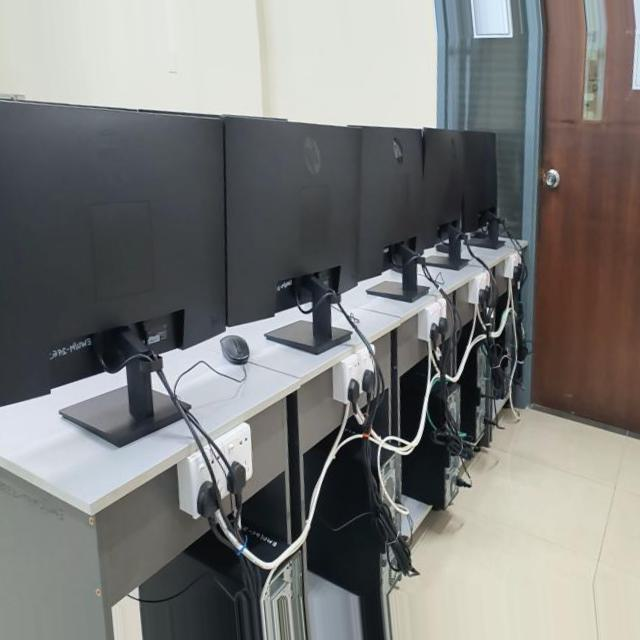Cpu: (260, 439, 350, 639), (357, 538, 497, 639), (205, 375, 266, 544), (175, 343, 198, 467)
Monitor: (388, 36, 640, 455), (270, 82, 398, 359), (219, 100, 283, 304), (185, 106, 229, 270), (156, 111, 191, 248)
Mouse: (382, 332, 407, 367), (205, 238, 216, 251)
